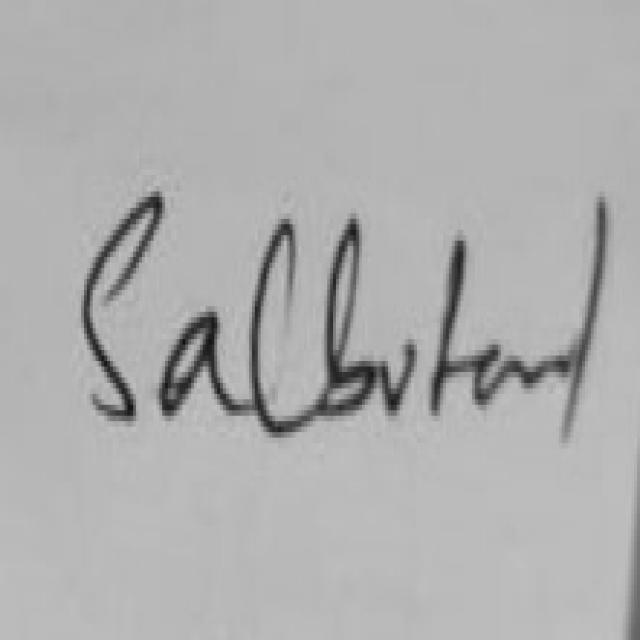S: (59, 152, 163, 452)
a: (158, 274, 234, 443), (472, 311, 532, 436)
b: (316, 200, 378, 426)
l: (550, 140, 616, 467), (242, 178, 304, 448)
t: (421, 195, 468, 448)
u: (370, 300, 426, 427)
